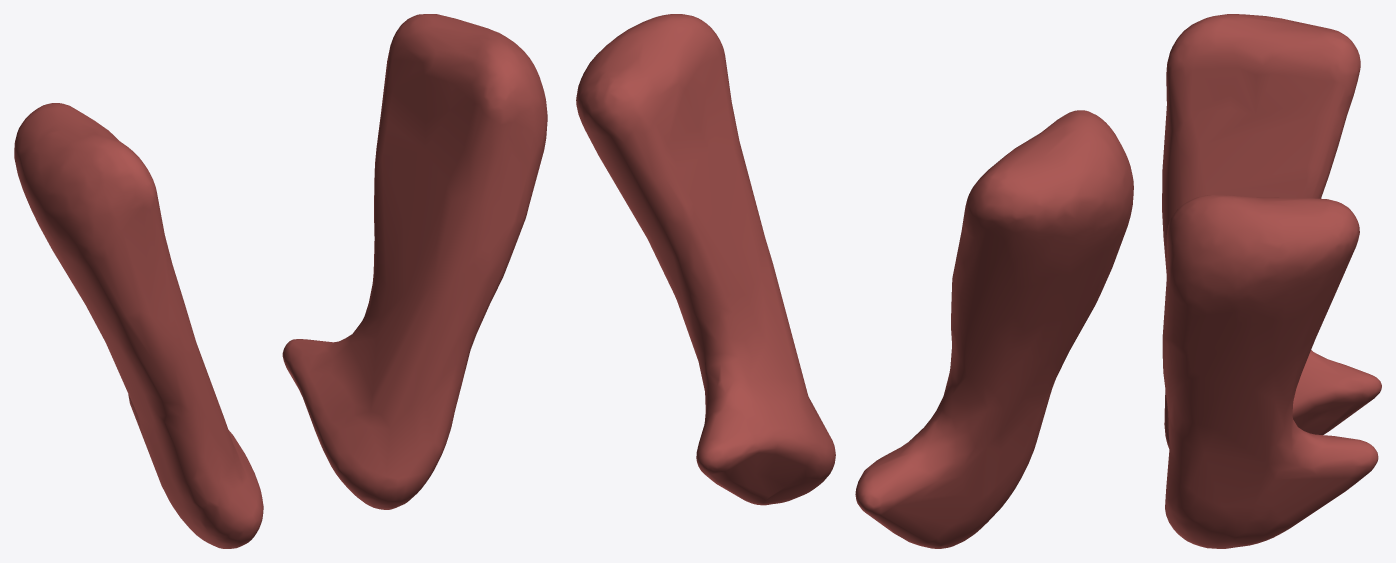
File: FMA75351.glb
3 renders of one model, left to right at view 1: azimuth 30°, elevation 25°; view 2: azimuth 150°, elevation 25°; view 3: azimuth 270°, elevation 25°, orthographic. The views are drawn at different scales.
Parts seen in each view (by area): view 1: FMA75351; view 2: FMA75351; view 3: FMA75351.
Part boxes in pixels (x1,y1,x2,y2): FMA75351: (14, 14, 547, 548); FMA75351: (576, 14, 1133, 548); FMA75351: (1162, 14, 1381, 548).
Bounding box in the file's own units: 0.012 × 0.01 × 0.00494.
